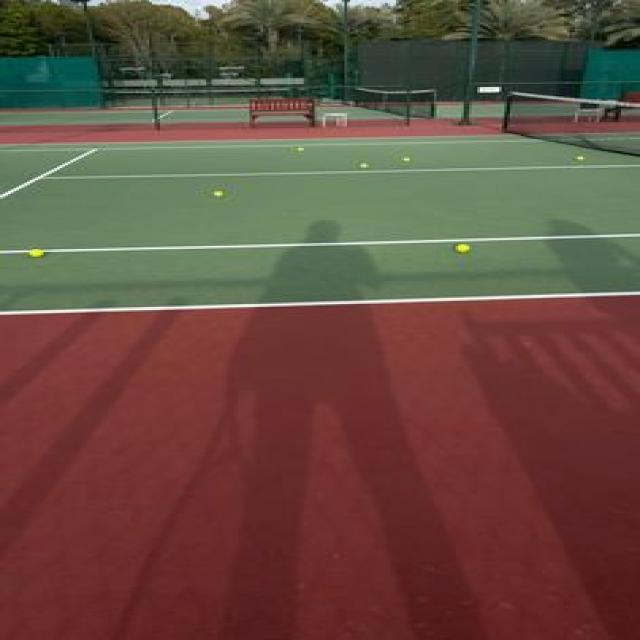tennis: (28, 247, 46, 259), (452, 243, 470, 253), (401, 156, 414, 164), (295, 146, 308, 154), (212, 190, 224, 198), (356, 163, 369, 170), (572, 155, 585, 161)
